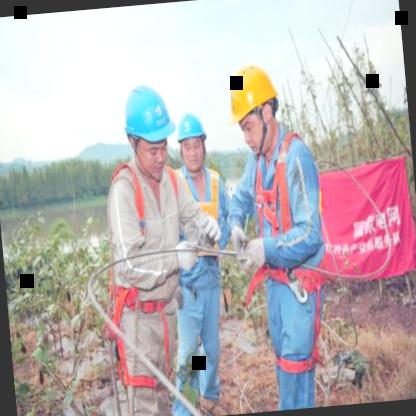helmet: (221, 55, 288, 160), (119, 74, 179, 181), (170, 105, 212, 176)
